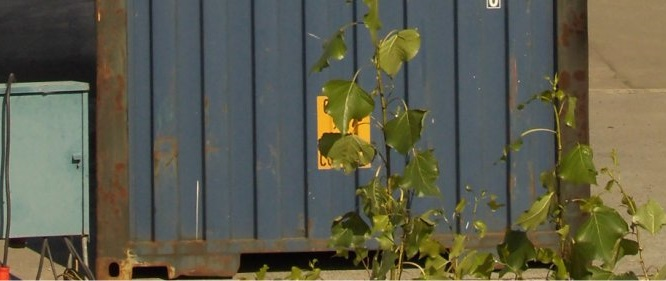container_no_door: (88, 4, 593, 276)
